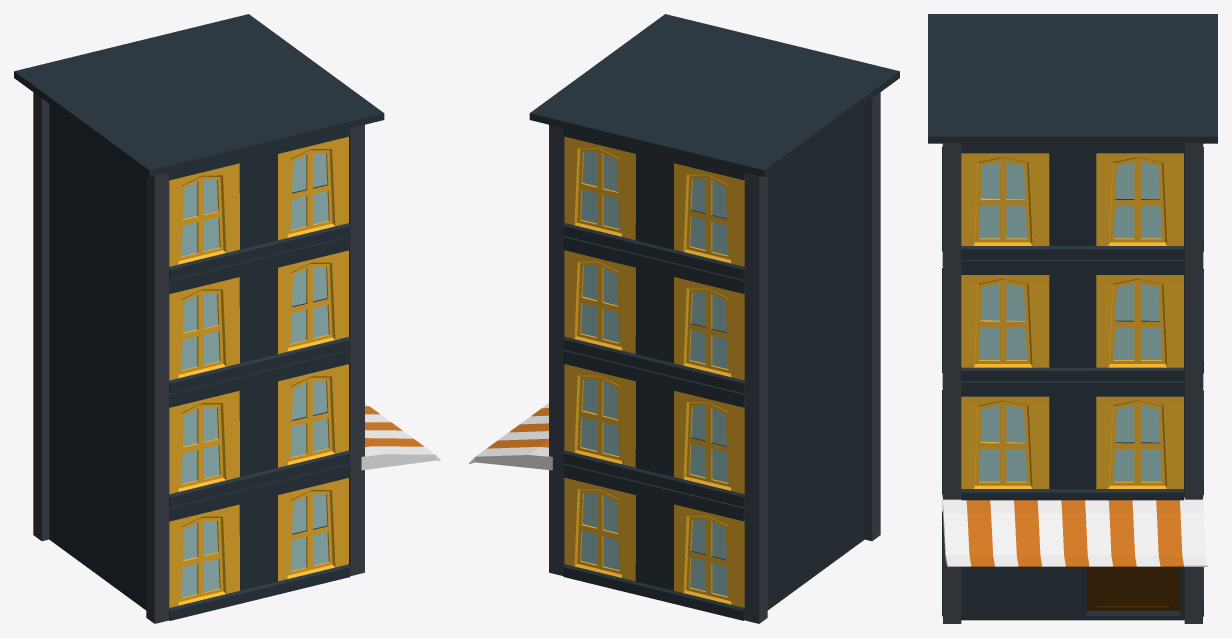
The model's file is buildings_2.fbx_4-Story_Yellow.fbx.
3 renders of one model, left to right at view 1: azimuth 30°, elevation 25°; view 2: azimuth 150°, elevation 25°; view 3: azimuth 270°, elevation 25°, orthographic. The views are drawn at different scales.
Parts seen in each view (by area): view 1: Cube.004; view 2: Cube.004; view 3: Cube.004.
Part boxes in pixels (x1,y1,x2,y2): Cube.004: (14,14,440,623); Cube.004: (469,14,899,623); Cube.004: (928,14,1217,623).
Size of the model in its own units: 1658 by 2437 by 1296.
